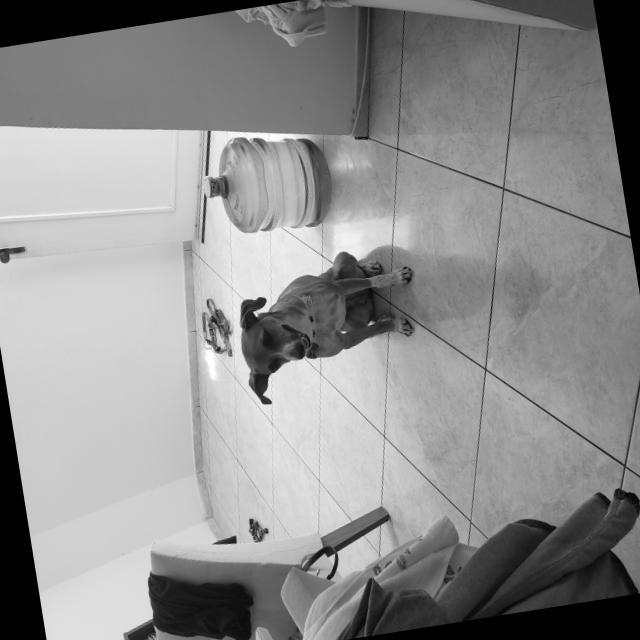sitting: (220, 222, 437, 418)
